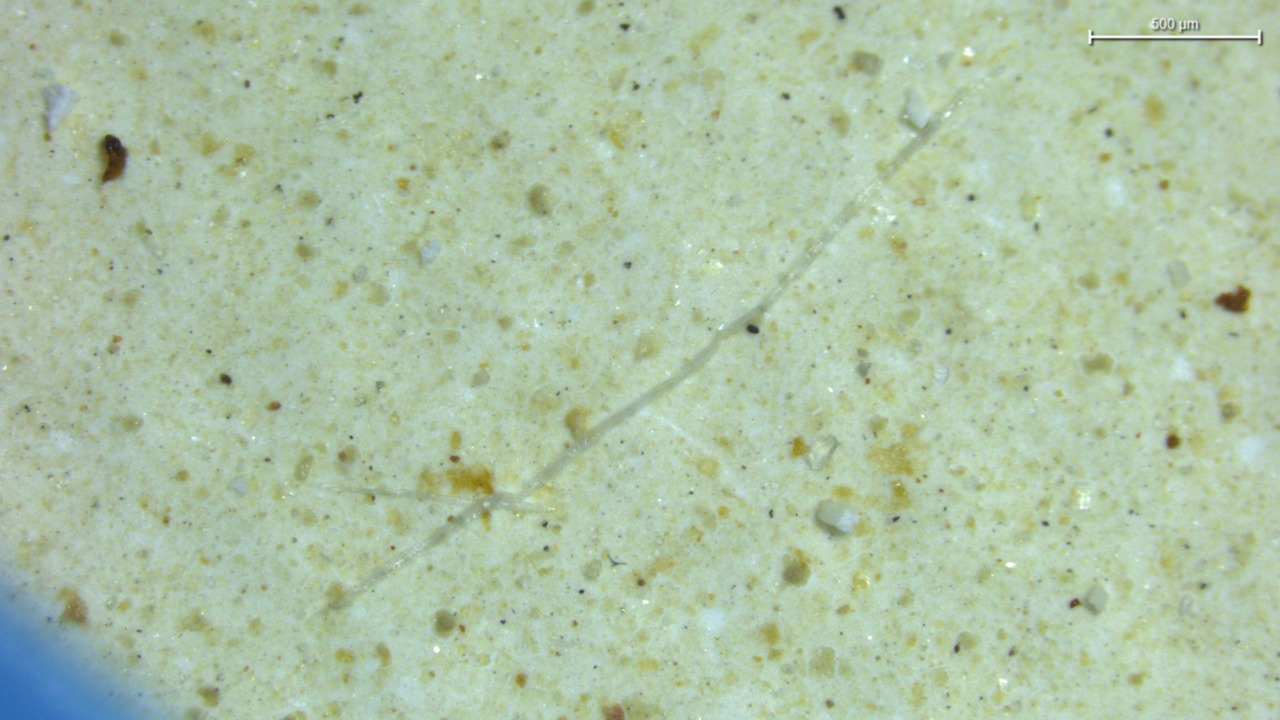microplastic_fragment: (42, 83, 77, 132), (816, 500, 859, 534), (903, 91, 933, 131), (1082, 584, 1109, 615), (420, 239, 440, 264)
